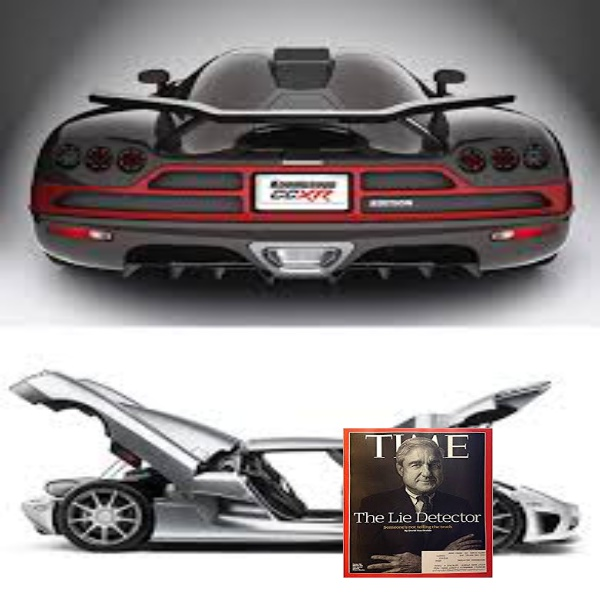time_cover: (336, 420, 504, 586)
